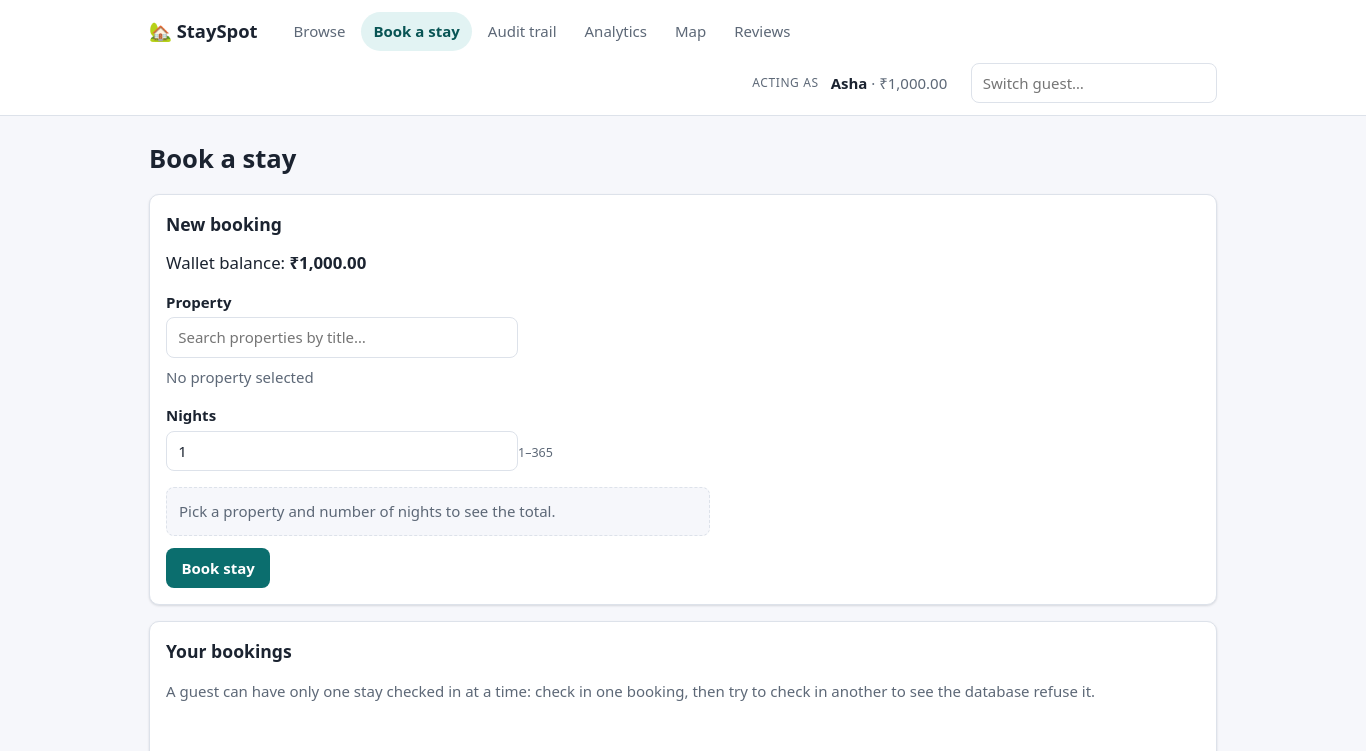
Book a stay › rejects bad night counts locally
Expected: the text "Wallet balance: ₹1,000.00" is shown, [166,251,366,274]
Click the dropdown labelled "Property".
click(342, 338)  # box [166,318,518,358]
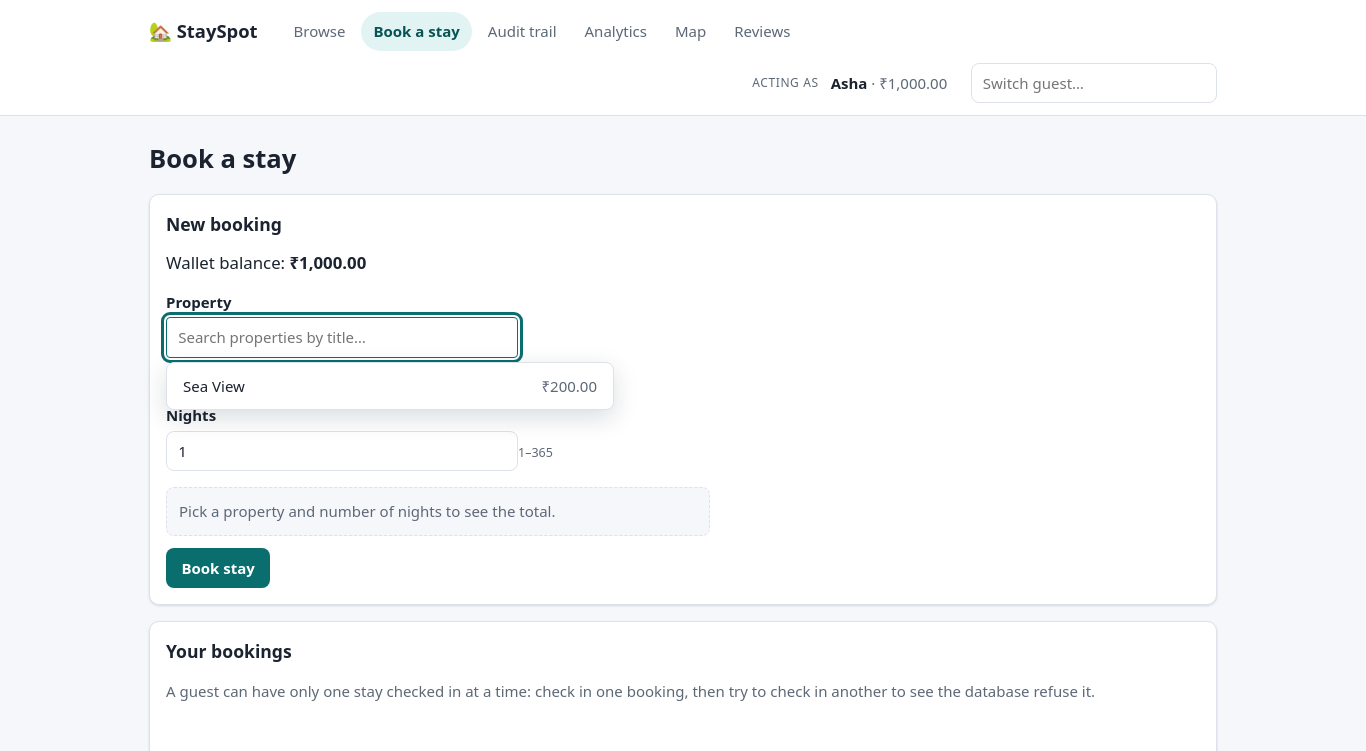
Click the button "Sea View ₹200.00".
click(214, 386)  # box [171,367,609,406]
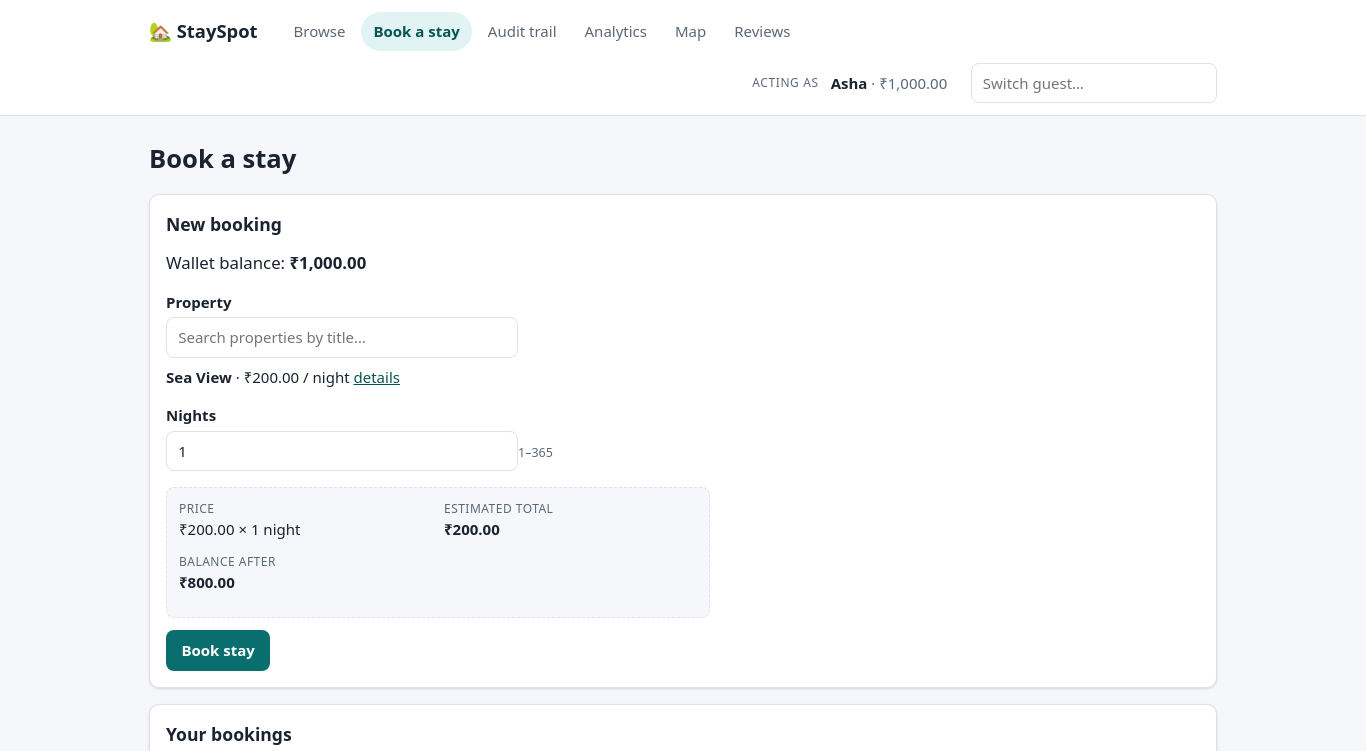
Replace the text in the number field labelled "Nights" with "1.5" at (342, 451), box [166,431,518,472]
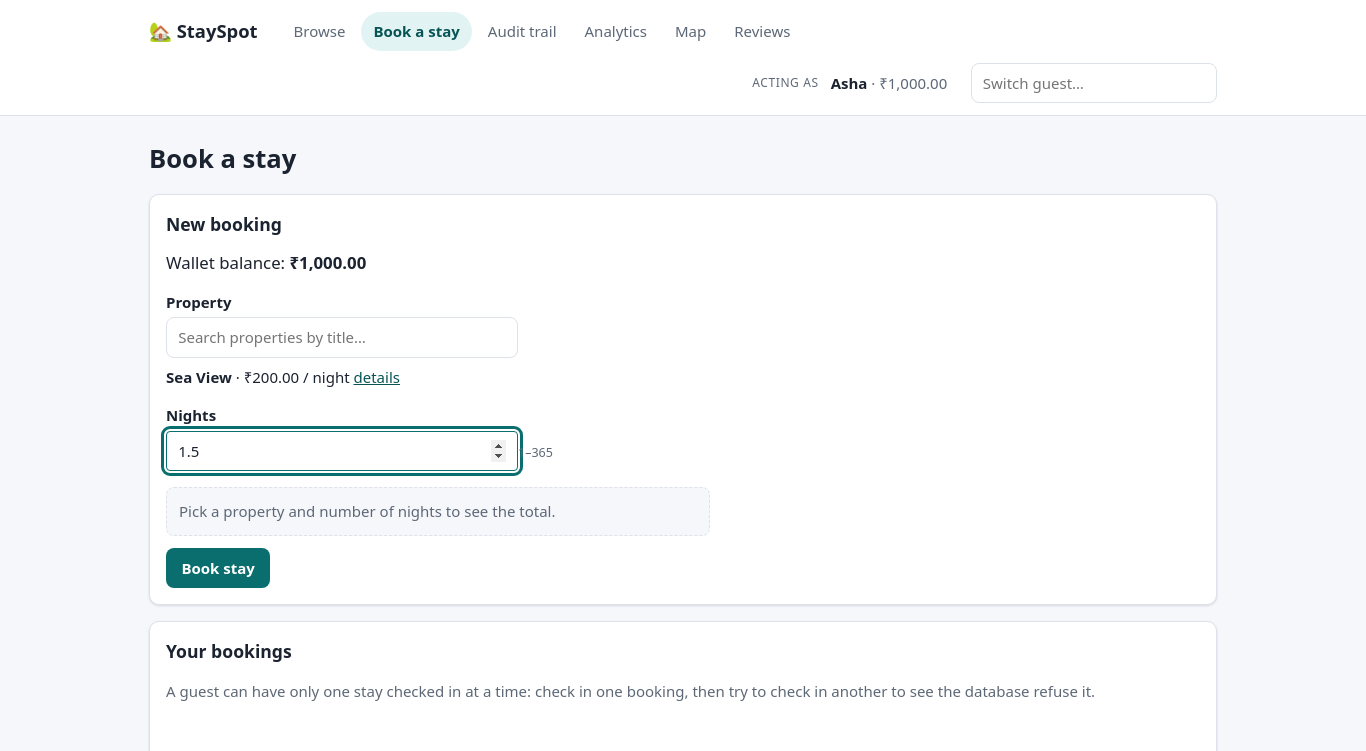
Click the button "Book stay".
click(218, 568)  # box [166,548,270,588]
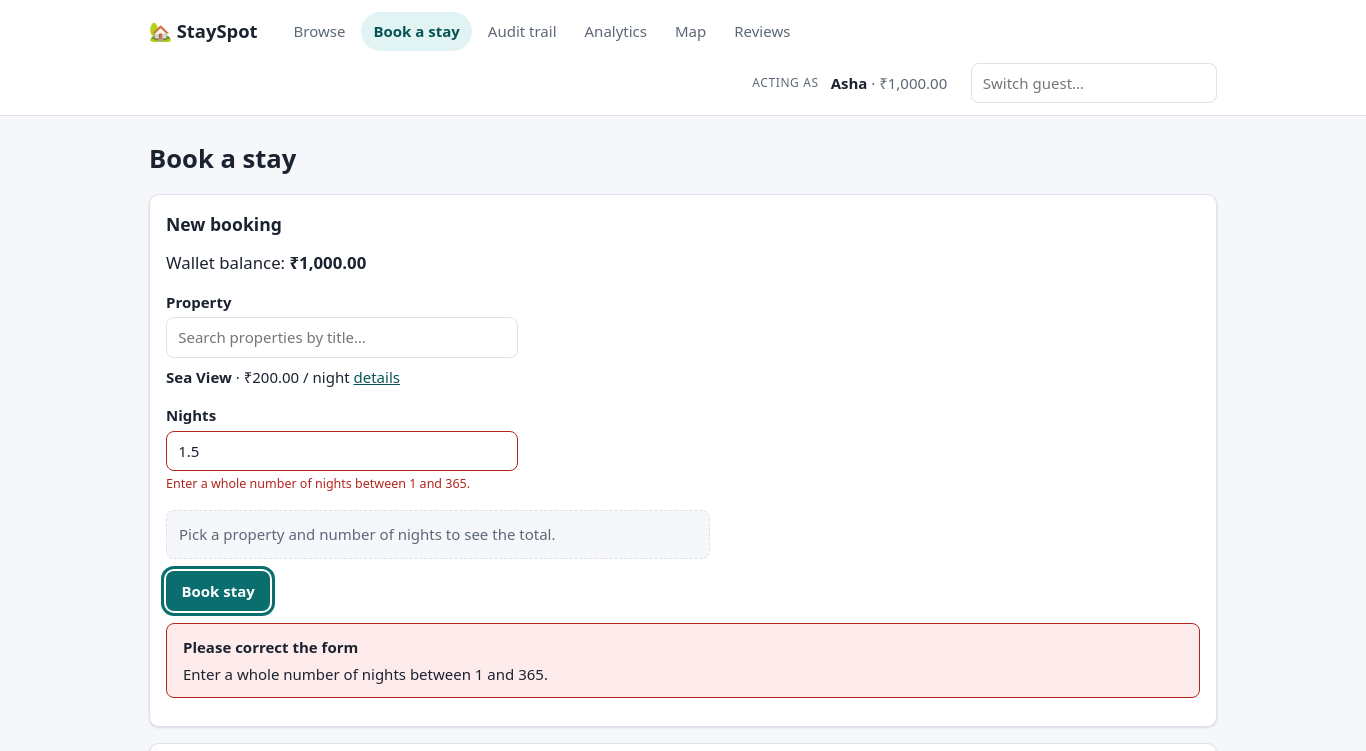
Now the text "Enter a whole number of nights between 1 and 365." is shown, box [166,476,470,492]
